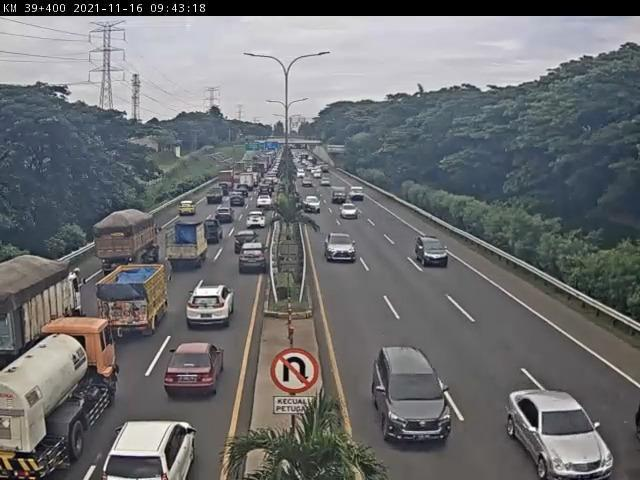car: (505, 389, 617, 480), (371, 347, 452, 448), (104, 422, 200, 480), (169, 347, 218, 400), (190, 281, 234, 333), (238, 241, 270, 277), (416, 236, 451, 268), (325, 235, 358, 264), (198, 220, 224, 243), (236, 232, 260, 255), (304, 196, 323, 215), (340, 205, 359, 222), (216, 208, 235, 224), (247, 212, 267, 227), (181, 201, 198, 217), (230, 192, 246, 207), (257, 197, 273, 210)
truck: (2, 319, 121, 480), (1, 253, 87, 361), (100, 263, 167, 336), (98, 214, 157, 268), (163, 226, 205, 272), (207, 187, 225, 204)
